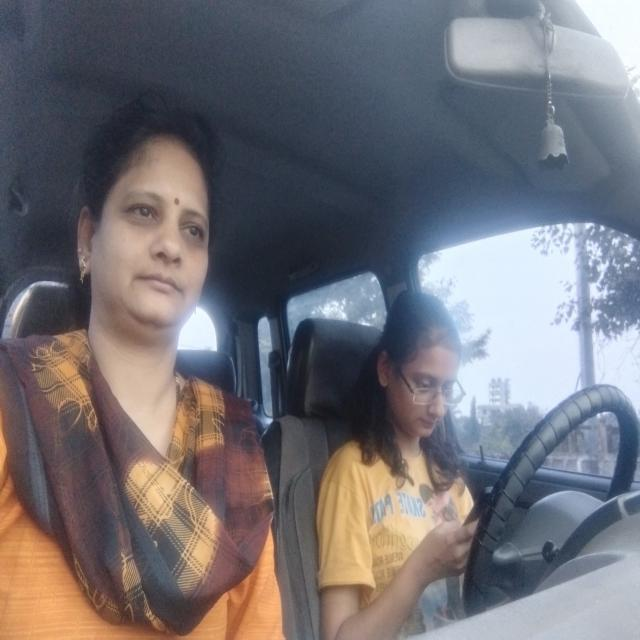mobile: (452, 481, 508, 545)
person: (67, 97, 233, 346), (371, 286, 469, 447)
